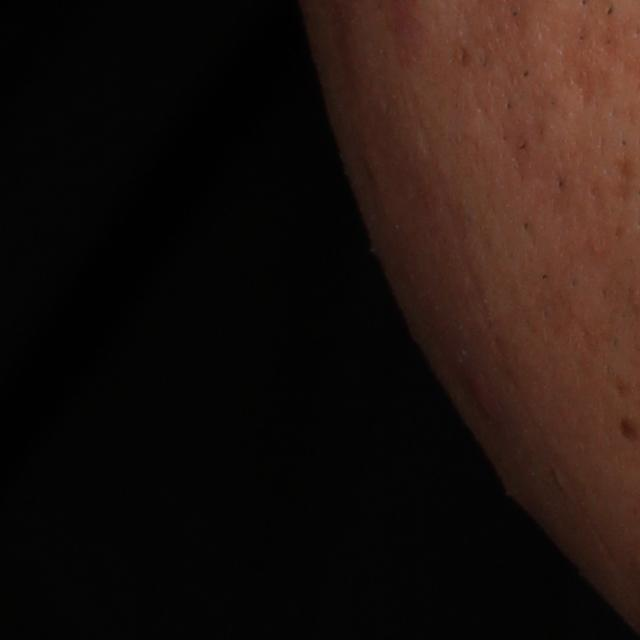nevus: (613, 413, 637, 435)
papule: (466, 377, 512, 432)
